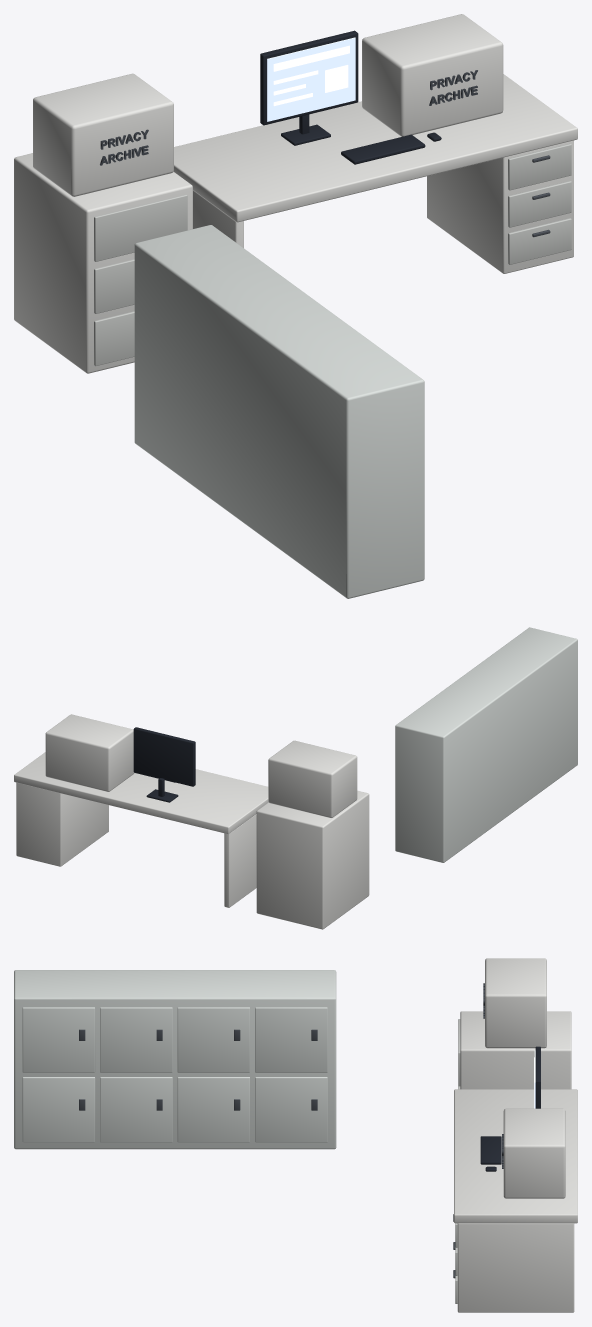
File: station-privacy.glb
3 views of the same model, one above another, from view 1: azimuth 30°, elevation 25°; view 2: azimuth 150°, elevation 25°; view 3: azimuth 270°, elevation 25° (orthographic). The views are drawn at different scales.
Parts seen in each view (by area): view 1: LockerBody, DeskTop.002, ArchiveCabinet, ArchiveBox, ArchiveBox.001, Pedestal, Screen.002, CabinetDrawer.002, DrawerFront.002, DrawerFront, DrawerFront.001, CabinetDrawer (+6 smaller); view 2: LockerBody, ArchiveCabinet, DeskTop.002, Pedestal, ArchiveBox.001, ArchiveBox, MonitorFrame.002, PanelLeg.004; view 3: LockerBody, Pedestal, DeskTop.002, ArchiveCabinet, ArchiveBox, ArchiveBox.001, LockerDoor, LockerDoor.004, LockerDoor.001, LockerDoor.003, LockerDoor.005, LockerDoor.007 (+3 smaller).
Part boxes in pixels (left/top/right/bottom): LockerBody: left=134, top=225, right=424, bottom=598; DeskTop.002: left=173, top=74, right=577, bottom=222; ArchiveCabinet: left=14, top=153, right=192, bottom=373; ArchiveBox: left=362, top=14, right=503, bottom=136; ArchiveBox.001: left=33, top=73, right=173, bottom=196; Pedestal: left=427, top=140, right=573, bottom=273; Screen.002: left=267, top=37, right=355, bottom=121; CabinetDrawer.002: left=94, top=194, right=187, bottom=261; DrawerFront.002: left=508, top=143, right=571, bottom=190; DrawerFront: left=508, top=218, right=571, bottom=264; DrawerFront.001: left=508, top=181, right=571, bottom=227; CabinetDrawer: left=94, top=311, right=134, bottom=366; LockerBody: left=395, top=627, right=577, bottom=862; ArchiveCabinet: left=256, top=790, right=369, bottom=929; DeskTop.002: left=14, top=752, right=268, bottom=834; Pedestal: left=16, top=782, right=108, bottom=866; ArchiveBox.001: left=268, top=740, right=357, bottom=817; ArchiveBox: left=45, top=714, right=134, bottom=791; MonitorFrame.002: left=133, top=727, right=195, bottom=786; PanelLeg.004: left=224, top=814, right=256, bottom=907; LockerBody: left=14, top=970, right=336, bottom=1149; Pedestal: left=457, top=1223, right=574, bottom=1312; DeskTop.002: left=454, top=1089, right=577, bottom=1223; ArchiveCabinet: left=460, top=1011, right=571, bottom=1089; ArchiveBox: left=503, top=1108, right=565, bottom=1198; ArchiveBox.001: left=485, top=958, right=546, bottom=1048; LockerDoor: left=22, top=1077, right=95, bottom=1142; LockerDoor.004: left=22, top=1007, right=95, bottom=1072; LockerDoor.001: left=100, top=1077, right=172, bottom=1142; LockerDoor.003: left=255, top=1077, right=327, bottom=1142; LockerDoor.005: left=100, top=1007, right=172, bottom=1072; LockerDoor.007: left=255, top=1007, right=327, bottom=1072.
Bounding box in the file's own units: 3.68 × 1.58 × 4.55.
